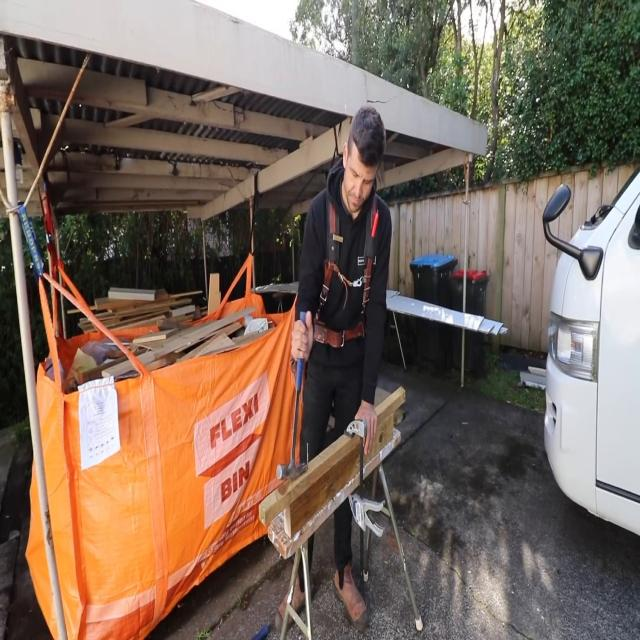hammer: (276, 304, 313, 482)
